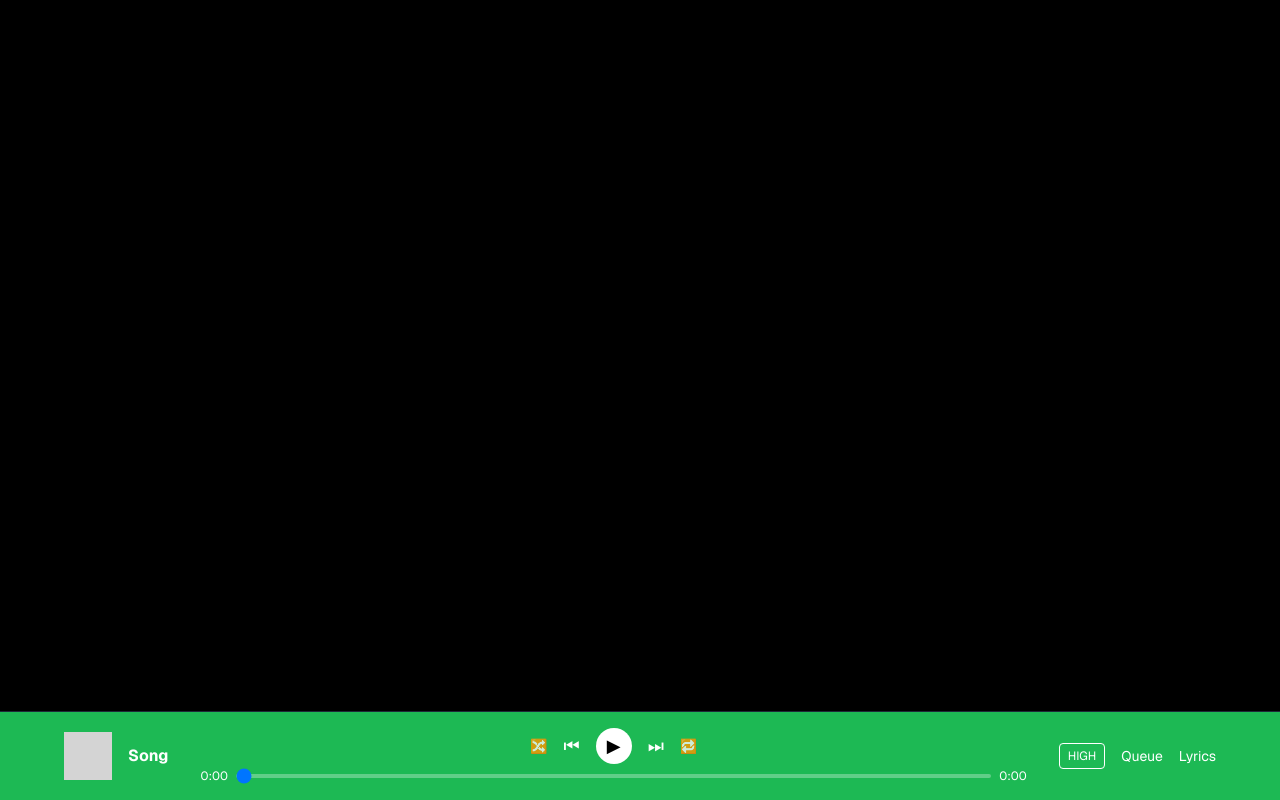
Scenario: Player › toggles play/pause label
This screenshot has width=1280, height=800.
Click the button named "Play".
click(614, 746)  # box [596, 728, 632, 764]
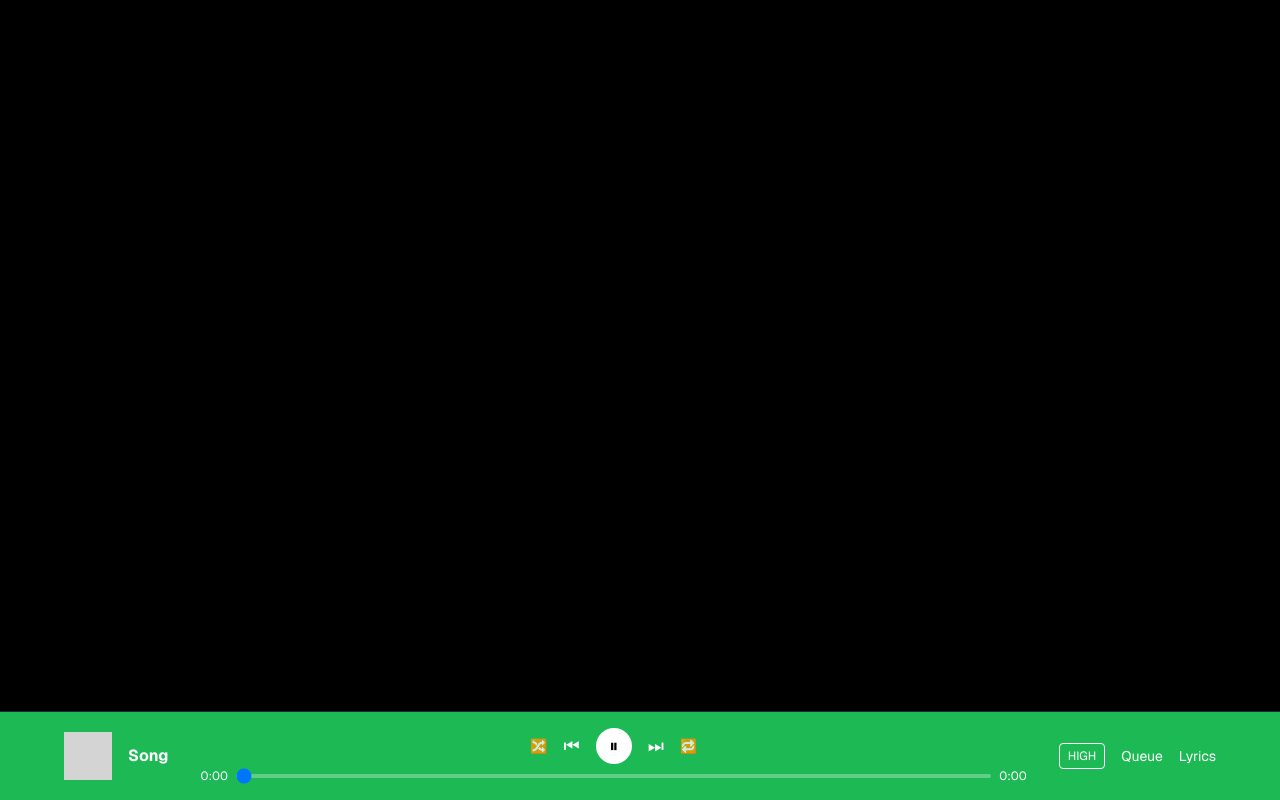
Expected: the button named "Pause" is shown, [596, 728, 632, 764]
